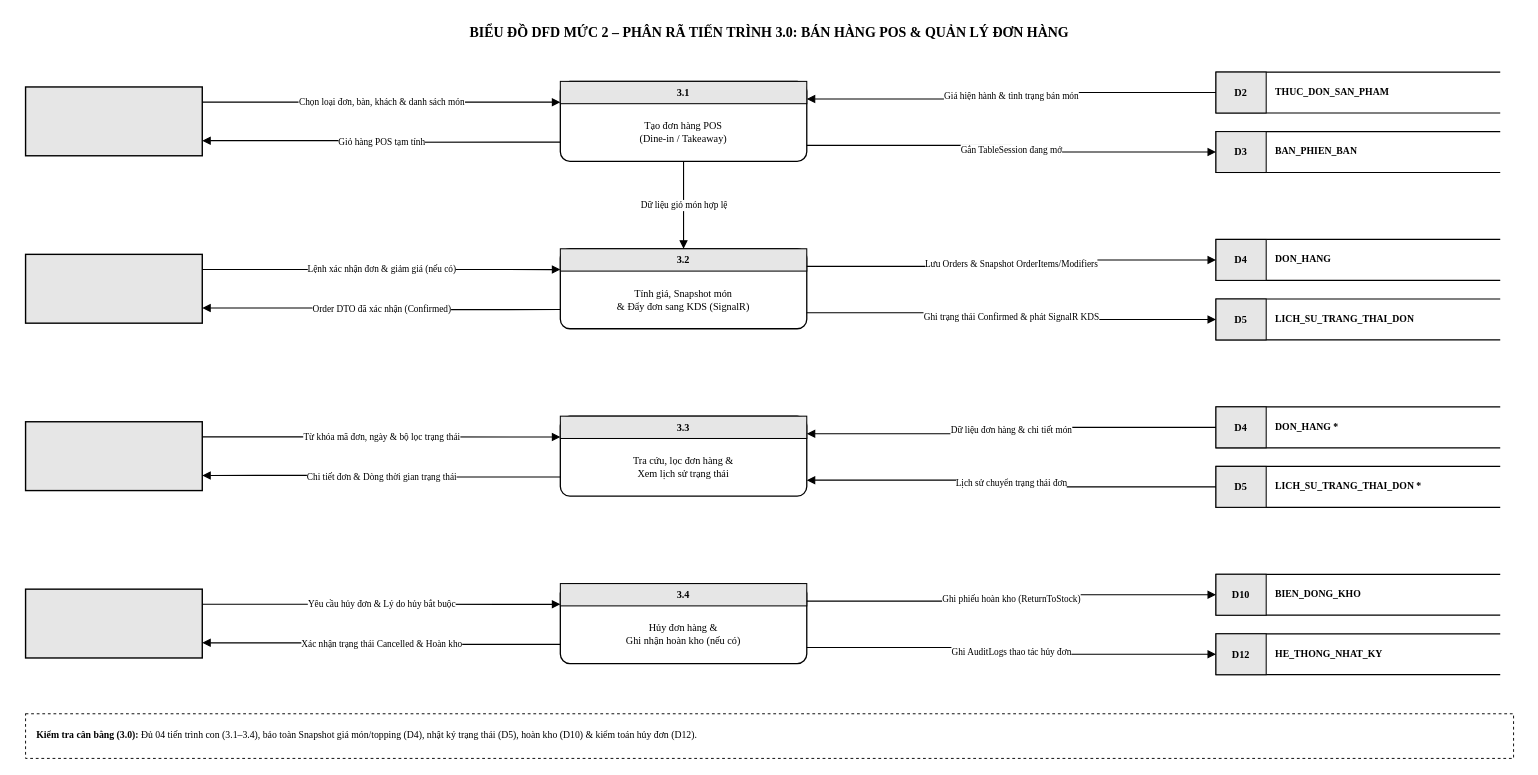
The diagram is 1538 pixels wide and 775 high, and some of its shapes have lost their labels. The shapes that lost their labels are listed below. From the top down, each one's centre as x and y in pixels, then its label:
the point at 113,121: Thu ngân (CASHIER)
the point at 113,288: Thu ngân (CASHIER) *
the point at 113,456: Thu ngân / Quản lý (CASHIER / MANAGER)
the point at 113,623: Thu ngân / Quản lý (CASHIER / MANAGER) *
